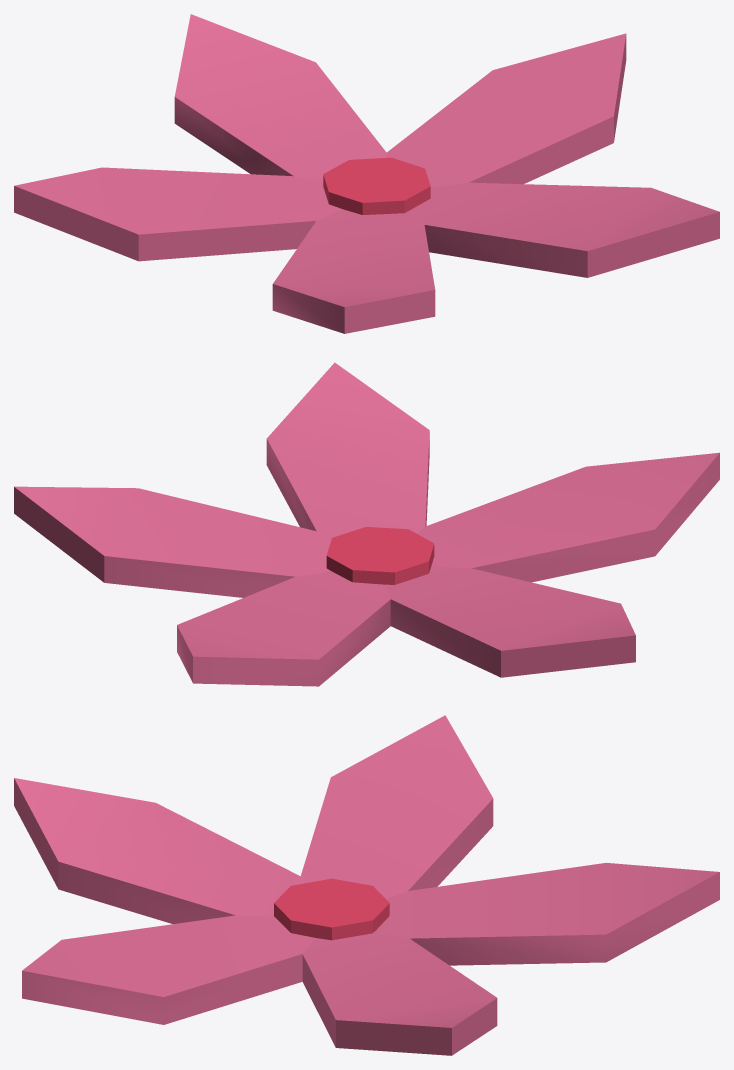
The model's file is Flower_Pink_2.fbx.
3 renders of one model, top to bottom at view 1: azimuth 30°, elevation 25°; view 2: azimuth 150°, elevation 25°; view 3: azimuth 270°, elevation 25°, orthographic. The views are drawn at different scales.
Visible parts, largest first — view 1: Cube.082, Cylinder.611; view 2: Cube.082, Cylinder.611; view 3: Cube.082, Cylinder.611.
Part boxes in pixels (x1,y1,x2,y2): Cube.082: (14,14,719,333); Cylinder.611: (323,157,430,214); Cube.082: (14,362,719,686); Cylinder.611: (326,527,434,584); Cube.082: (14,715,719,1055); Cylinder.611: (274,878,389,940).
Size of the model in its own units: 71.56 by 7.88 by 68.25.
